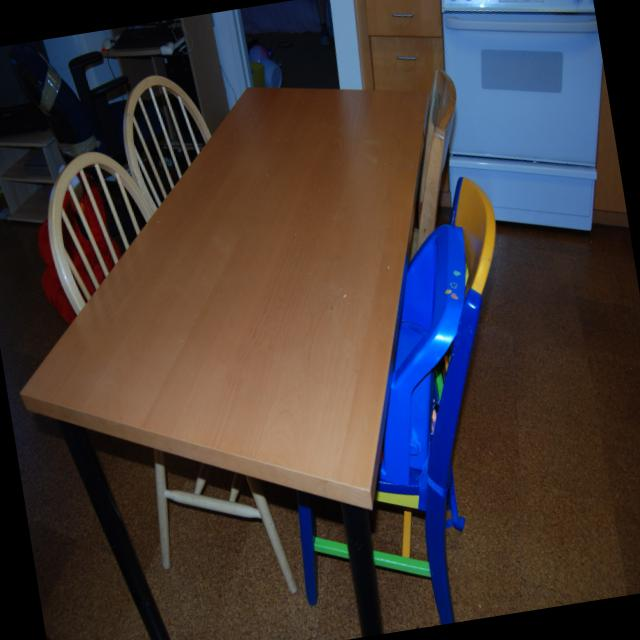chair part: (301, 175, 495, 623), (55, 153, 152, 310), (128, 77, 211, 210), (409, 66, 453, 263)
drawers toy: (355, 0, 445, 87)
furniture toy: (104, 14, 228, 129)
shelves: (0, 128, 65, 221)
stove oven: (442, 0, 602, 232)
table -X: (20, 85, 427, 640)
